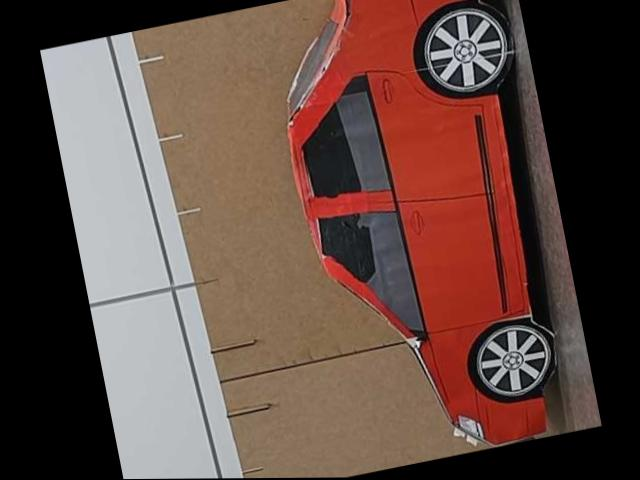car: (254, 0, 588, 477)
